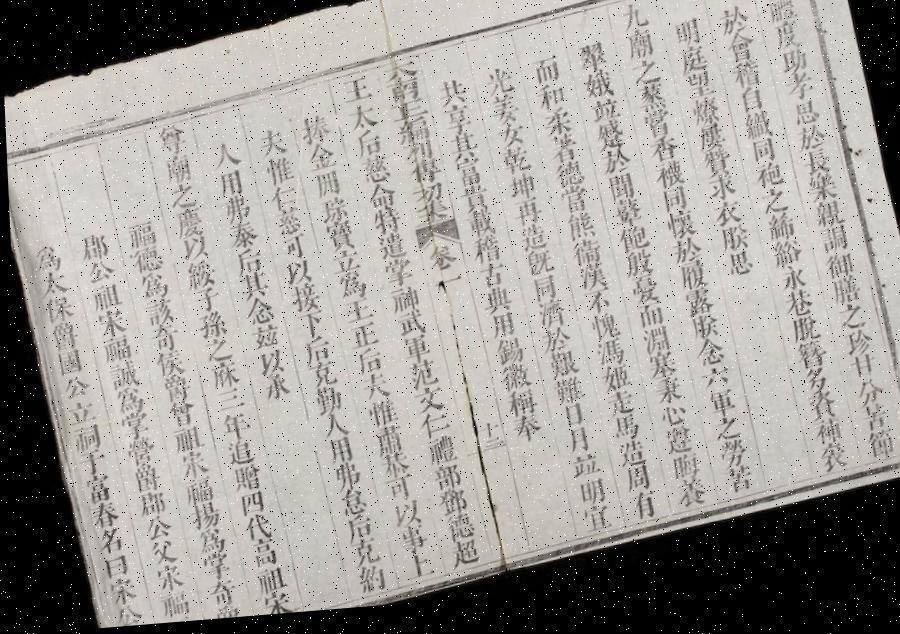c: (150, 123, 190, 162), (482, 98, 522, 136), (416, 439, 456, 476), (318, 223, 356, 261), (178, 260, 218, 296), (666, 486, 706, 522), (204, 140, 244, 176), (760, 3, 800, 39), (713, 14, 753, 50), (118, 218, 158, 254), (390, 121, 432, 155), (251, 128, 288, 166), (572, 48, 610, 85), (620, 37, 658, 74), (798, 400, 836, 437), (212, 411, 251, 447), (294, 117, 333, 153), (169, 450, 208, 486), (388, 527, 427, 563), (365, 428, 404, 464), (282, 285, 321, 321), (100, 359, 140, 394), (382, 81, 424, 114), (258, 158, 296, 194), (478, 70, 516, 106), (857, 440, 895, 476), (449, 158, 485, 196), (239, 538, 277, 574), (157, 154, 195, 190), (800, 184, 839, 219), (431, 81, 470, 116), (578, 77, 617, 112), (136, 297, 176, 331), (524, 62, 564, 96), (244, 568, 284, 602), (398, 364, 438, 398), (355, 158, 392, 194), (667, 25, 704, 61), (614, 9, 652, 44), (622, 283, 660, 318), (537, 114, 575, 149), (720, 43, 758, 78), (144, 563, 182, 598), (347, 567, 385, 602), (582, 319, 620, 354), (684, 106, 722, 141), (405, 390, 444, 424), (545, 383, 584, 417), (125, 246, 164, 280), (131, 271, 170, 305), (84, 282, 123, 316), (570, 270, 609, 304), (440, 543, 479, 577), (589, 128, 628, 162), (402, 163, 442, 196), (385, 102, 429, 132), (376, 62, 420, 92), (410, 415, 450, 448), (421, 248, 457, 284), (638, 116, 674, 152), (76, 471, 112, 507), (124, 462, 160, 498), (655, 434, 692, 469), (377, 262, 414, 297), (168, 208, 205, 243), (306, 388, 343, 423), (150, 590, 188, 624), (428, 492, 466, 526), (687, 346, 725, 380), (645, 384, 683, 418), (360, 402, 398, 436), (764, 250, 802, 284), (676, 297, 714, 331), (542, 141, 580, 175), (564, 246, 602, 280), (648, 169, 686, 203), (330, 276, 368, 310), (788, 350, 826, 384), (89, 308, 127, 342), (592, 370, 630, 404), (606, 206, 644, 240), (436, 517, 474, 551), (340, 540, 378, 574), (778, 82, 816, 116), (498, 394, 536, 428), (336, 78, 374, 112), (192, 552, 230, 586), (726, 71, 764, 105), (222, 465, 260, 499), (504, 420, 542, 454), (238, 299, 276, 333), (190, 312, 228, 346), (222, 222, 260, 256), (382, 290, 421, 323), (789, 134, 828, 167), (760, 223, 796, 258), (530, 306, 566, 341), (118, 436, 154, 471), (302, 145, 338, 180), (99, 575, 135, 610), (810, 452, 846, 487), (710, 448, 746, 483), (621, 498, 656, 534), (349, 132, 385, 167), (342, 106, 379, 140), (777, 300, 814, 334), (487, 343, 524, 377), (612, 232, 649, 266), (671, 270, 708, 304), (559, 219, 596, 253), (74, 230, 111, 264), (673, 54, 710, 88), (807, 211, 844, 245), (738, 122, 775, 156), (554, 192, 591, 226), (698, 397, 735, 431), (438, 109, 475, 143), (455, 189, 492, 223), (112, 411, 150, 444), (232, 273, 270, 306), (181, 503, 219, 536), (147, 349, 185, 382), (352, 376, 390, 409), (548, 167, 586, 200), (715, 475, 753, 508), (202, 362, 240, 395), (370, 456, 409, 488), (660, 219, 696, 253), (216, 196, 252, 230), (508, 204, 544, 238), (38, 292, 74, 326), (366, 210, 402, 244), (324, 464, 360, 498), (852, 414, 888, 448), (830, 314, 866, 348), (768, 32, 804, 66), (568, 483, 604, 517), (26, 241, 62, 275), (87, 524, 123, 558), (234, 514, 270, 548), (714, 234, 750, 268), (496, 152, 532, 186), (598, 397, 635, 430), (824, 288, 861, 321), (691, 133, 728, 166), (493, 369, 530, 402), (541, 357, 578, 390), (706, 209, 743, 242), (162, 183, 199, 216), (573, 511, 610, 544), (383, 503, 420, 536), (460, 215, 497, 248), (217, 440, 254, 473), (465, 242, 503, 274), (340, 326, 378, 358), (642, 144, 680, 176), (664, 246, 702, 278), (594, 154, 632, 186), (360, 186, 398, 218), (812, 238, 850, 270), (95, 335, 133, 367), (174, 478, 212, 510), (796, 160, 834, 192), (198, 580, 236, 612), (406, 186, 445, 217), (602, 180, 637, 214), (348, 350, 383, 384), (45, 320, 79, 355), (270, 209, 304, 244), (64, 423, 100, 456), (608, 447, 644, 480), (477, 292, 513, 325), (296, 339, 332, 372), (588, 346, 624, 379), (634, 334, 670, 367), (618, 258, 654, 291), (532, 89, 568, 122), (662, 460, 698, 493), (848, 389, 884, 422), (632, 89, 668, 122), (702, 183, 738, 216), (228, 249, 264, 282), (680, 80, 716, 113), (696, 158, 732, 191), (159, 400, 196, 432), (165, 426, 202, 458), (142, 324, 179, 356), (683, 322, 720, 354), (370, 236, 407, 268), (836, 340, 873, 372), (108, 386, 145, 418), (424, 468, 461, 500), (394, 557, 432, 588), (388, 315, 426, 346), (584, 104, 622, 135), (312, 200, 350, 231), (278, 260, 312, 294), (211, 170, 245, 204), (155, 375, 190, 408), (308, 174, 343, 207), (513, 230, 548, 263), (290, 314, 326, 346), (472, 268, 508, 300), (130, 490, 166, 522), (491, 128, 527, 160), (754, 198, 790, 230), (748, 172, 784, 204), (82, 500, 118, 532), (444, 136, 480, 168), (806, 429, 842, 461), (786, 110, 822, 142), (640, 360, 676, 392), (395, 338, 431, 370), (331, 492, 367, 524), (188, 528, 224, 560), (563, 459, 599, 491), (783, 326, 819, 358), (249, 592, 290, 620), (244, 326, 281, 357), (59, 398, 96, 429), (626, 66, 663, 97), (336, 302, 374, 332), (533, 334, 571, 364), (410, 205, 448, 235), (692, 374, 730, 404), (720, 260, 754, 293), (615, 472, 649, 505), (318, 439, 352, 472), (502, 180, 537, 212), (265, 186, 300, 218), (519, 256, 554, 288), (135, 514, 170, 546), (140, 538, 175, 570), (604, 421, 639, 453), (33, 268, 68, 300), (197, 338, 233, 369), (744, 148, 780, 179), (775, 59, 811, 90), (732, 97, 768, 128), (704, 425, 740, 456), (70, 448, 106, 479), (629, 311, 665, 342), (174, 235, 210, 266), (818, 264, 855, 294), (228, 492, 265, 522), (207, 389, 244, 419), (794, 378, 828, 410), (314, 416, 349, 447), (55, 372, 90, 403), (396, 146, 436, 173), (336, 518, 372, 548), (376, 480, 412, 510), (576, 296, 612, 326), (186, 288, 222, 318), (772, 277, 808, 307), (256, 376, 289, 408), (302, 365, 336, 396), (483, 318, 517, 349), (250, 352, 284, 383), (841, 365, 876, 395), (80, 258, 115, 288), (428, 278, 463, 307), (650, 412, 686, 440), (656, 195, 688, 226), (526, 281, 558, 312), (95, 551, 128, 581), (326, 253, 360, 282), (276, 238, 308, 268), (51, 348, 83, 378), (104, 602, 140, 628), (559, 434, 590, 464), (554, 410, 585, 438), (204, 604, 242, 622), (474, 426, 498, 449), (480, 444, 499, 456)
